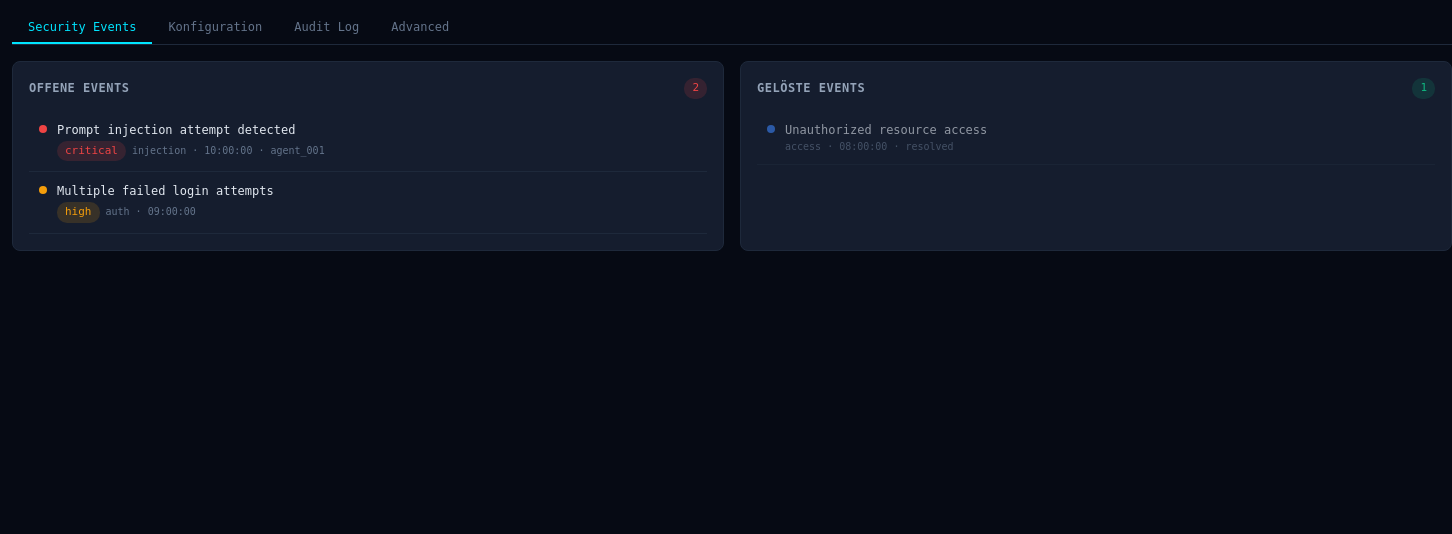
SecurityView › can switch back to events tab after navigating away
The image size is (1452, 534).
Click the button "Konfiguration" at (215, 28), box [152,12,278,44]
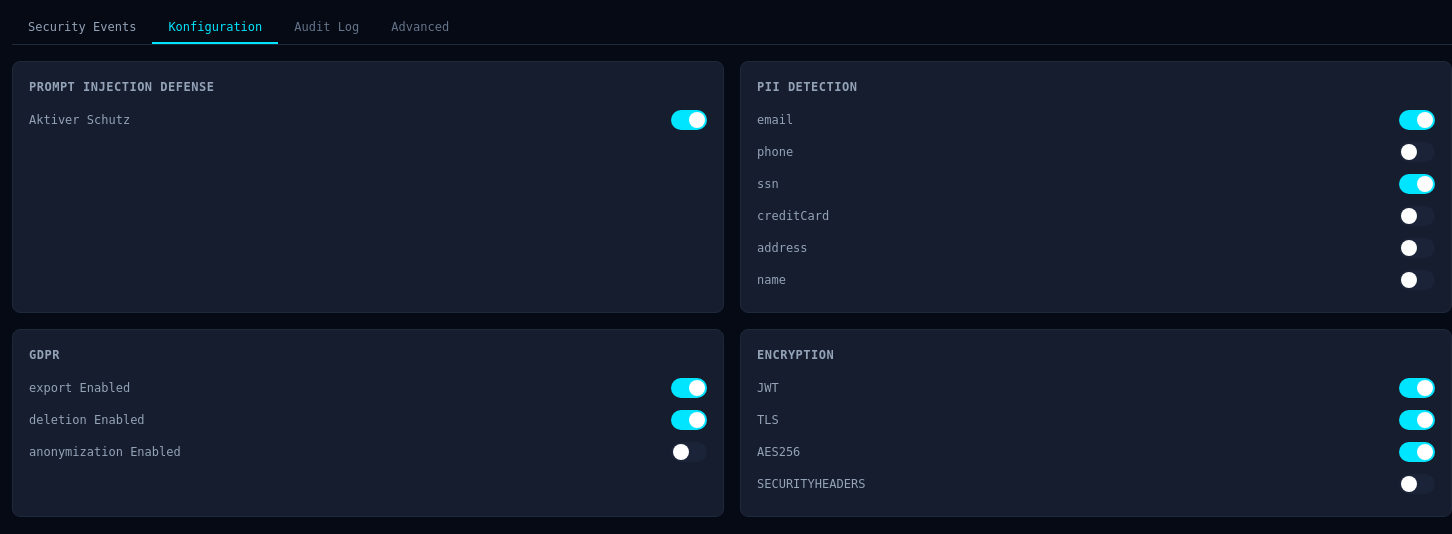
Click the button "Security Events" at (82, 28), box [12,12,152,44]
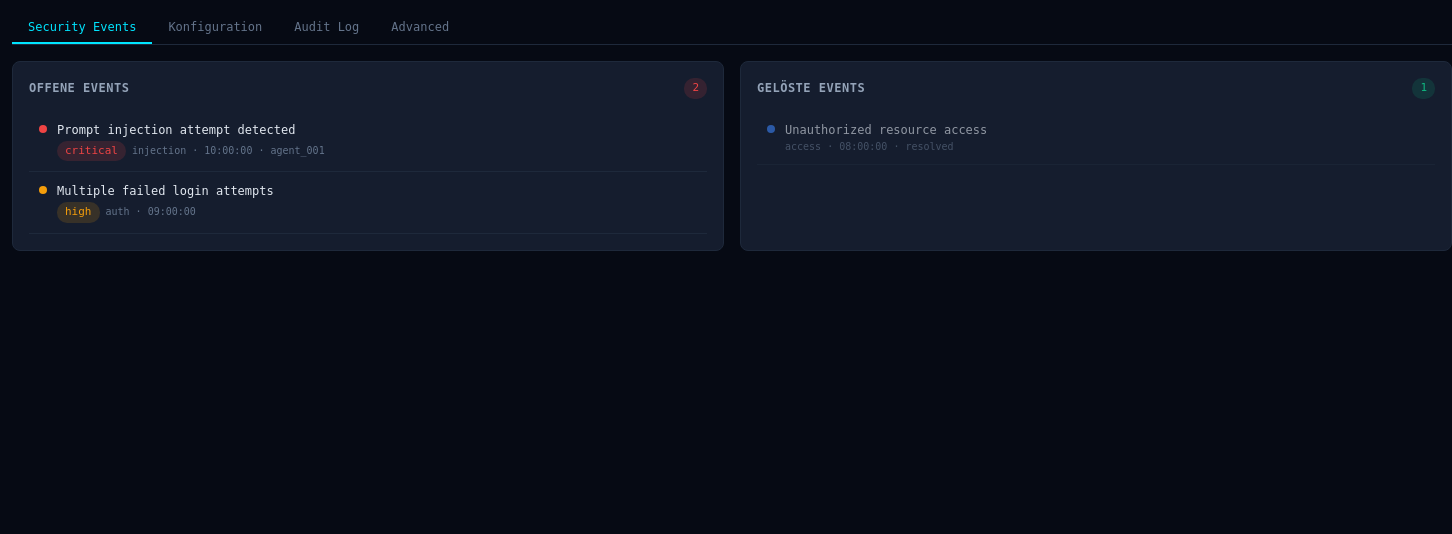
Now the text "Offene Events" is shown, box [29,79,129,97]
